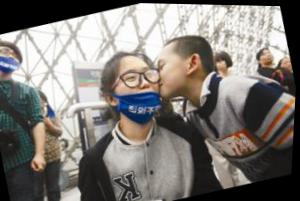NONE: (149, 48, 200, 101), (261, 48, 277, 64), (215, 57, 229, 73), (280, 58, 293, 73)
WRONG: (113, 61, 168, 115), (1, 41, 27, 78)
